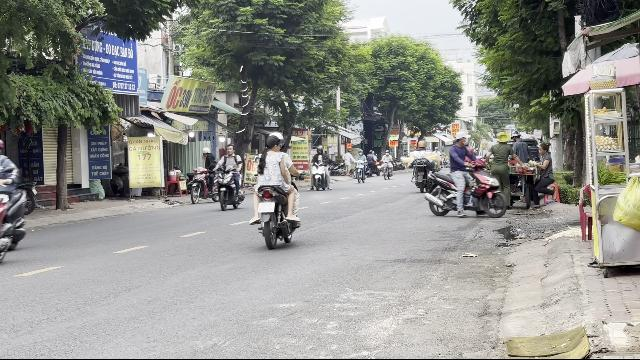licenseplate: (258, 202, 274, 212)
motorcyclist: (424, 128, 508, 220), (248, 131, 302, 248)
nohelmet: (265, 136, 283, 156), (455, 131, 471, 148)
